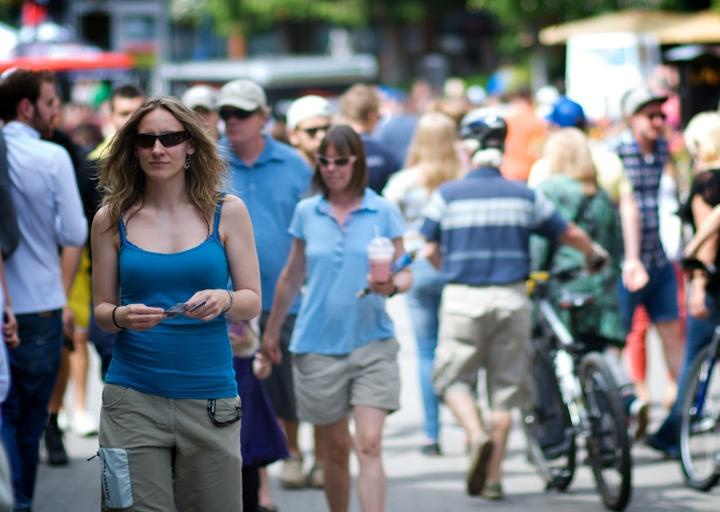non-vehicle: (516, 253, 638, 511), (673, 253, 720, 494)
